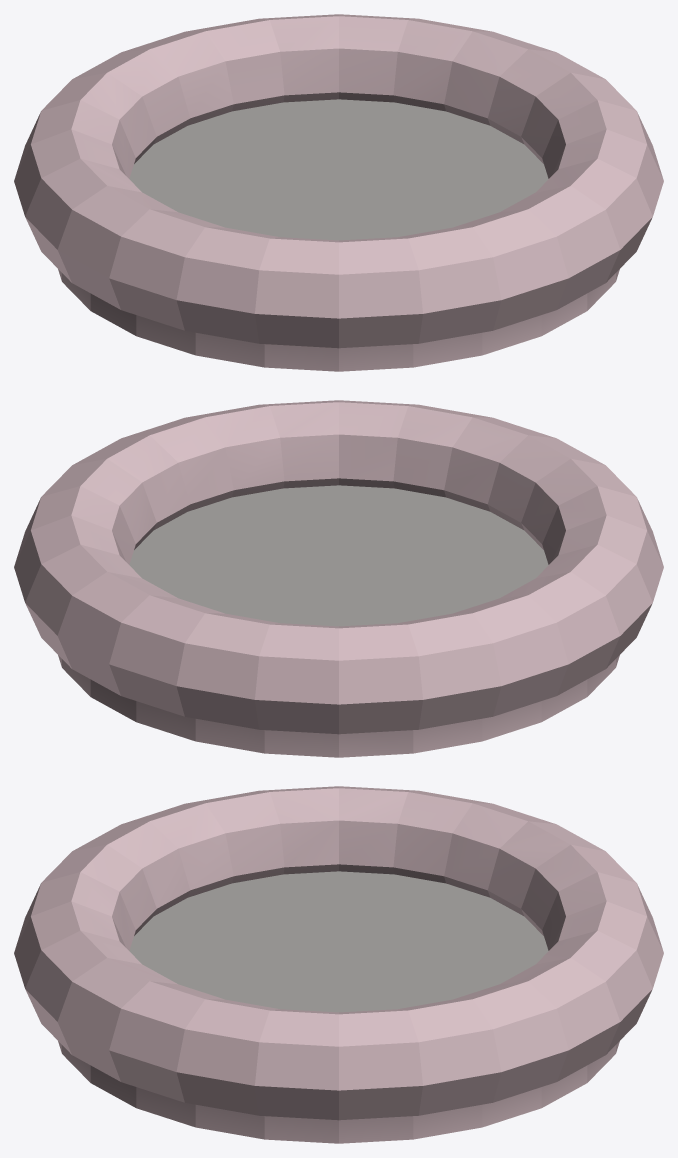
Rendered from petshop_pet_bed__pink.glb.
The picture shows the model from 3 angles, top to bottom: view 1: azimuth 30°, elevation 25°; view 2: azimuth 150°, elevation 25°; view 3: azimuth 270°, elevation 25°; orthographic projection.
Size of the model in its own units: 1.02 by 0.21 by 1.02.
